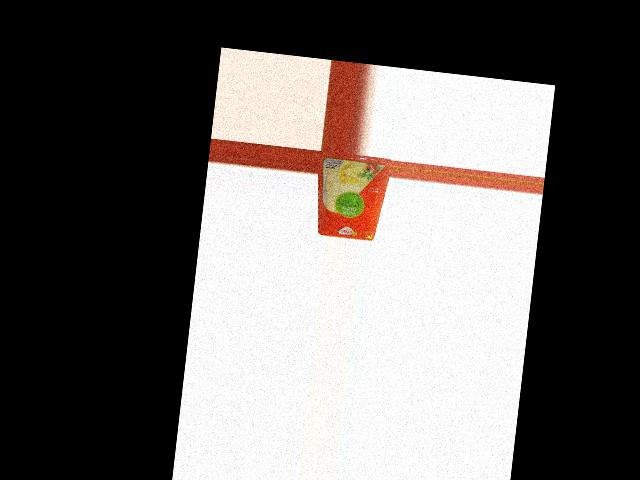cheese: (313, 150, 392, 241)
